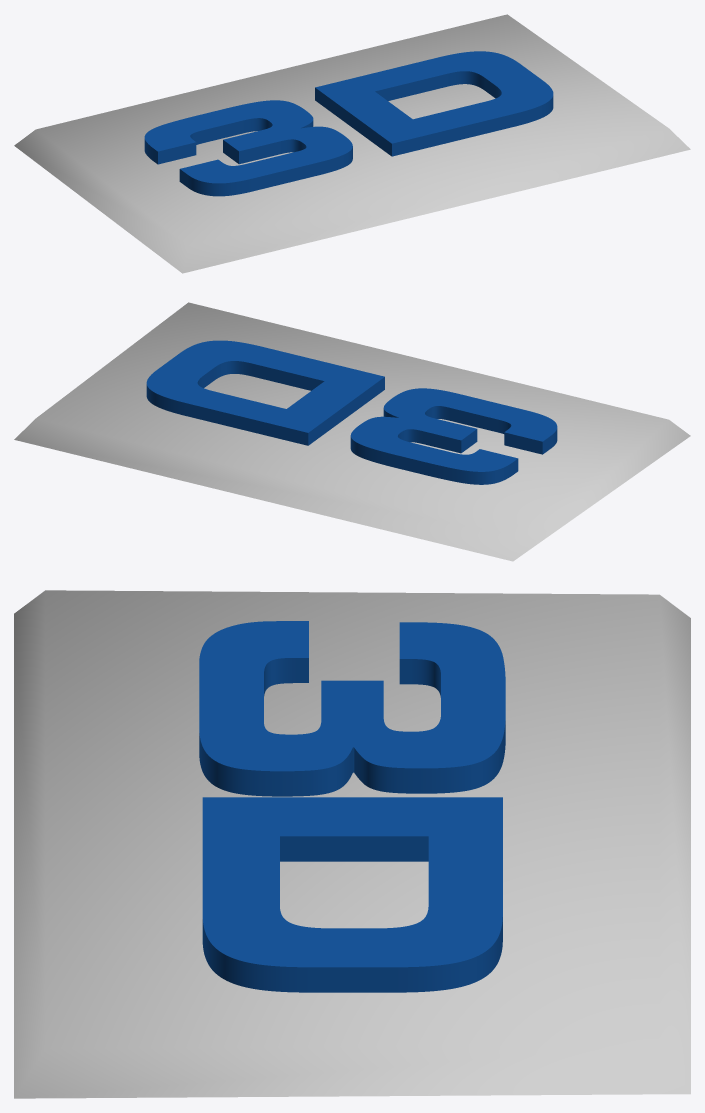
3 views of the same model, one above another, from view 1: azimuth 30°, elevation 25°; view 2: azimuth 150°, elevation 25°; view 3: azimuth 270°, elevation 25° (orthographic). The views are drawn at different scales.
Visible parts, largest first — view 1: headusOBJexport004; view 2: headusOBJexport004; view 3: headusOBJexport004.
Part boxes in pixels (<box>): headusOBJexport004: <box>14,14,690,273</box>; headusOBJexport004: <box>14,302,690,561</box>; headusOBJexport004: <box>14,590,690,1098</box>.
Size of the model in its own units: 116 by 6.9 by 68.36.
